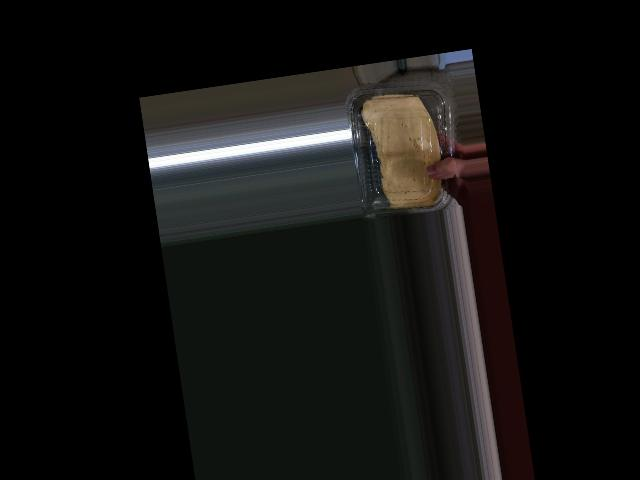cheese: (342, 74, 454, 222)
